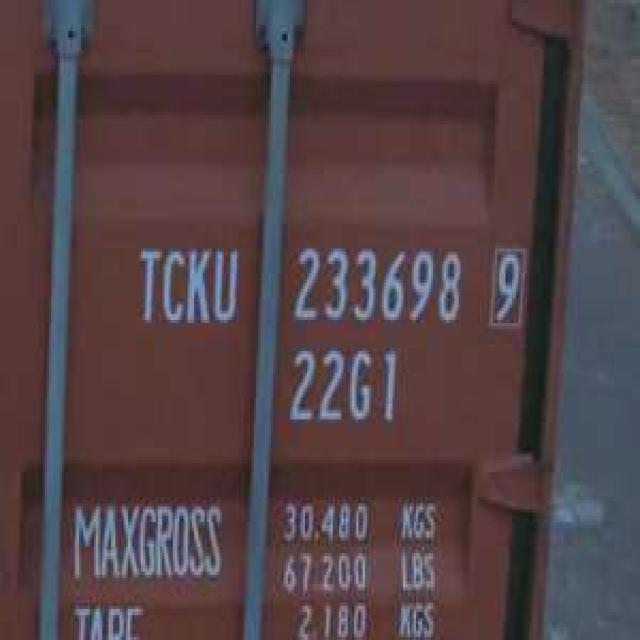dv: (484, 240, 529, 332)
owner: (132, 236, 241, 333)
serial: (286, 236, 467, 329)
size: (282, 339, 403, 435)
